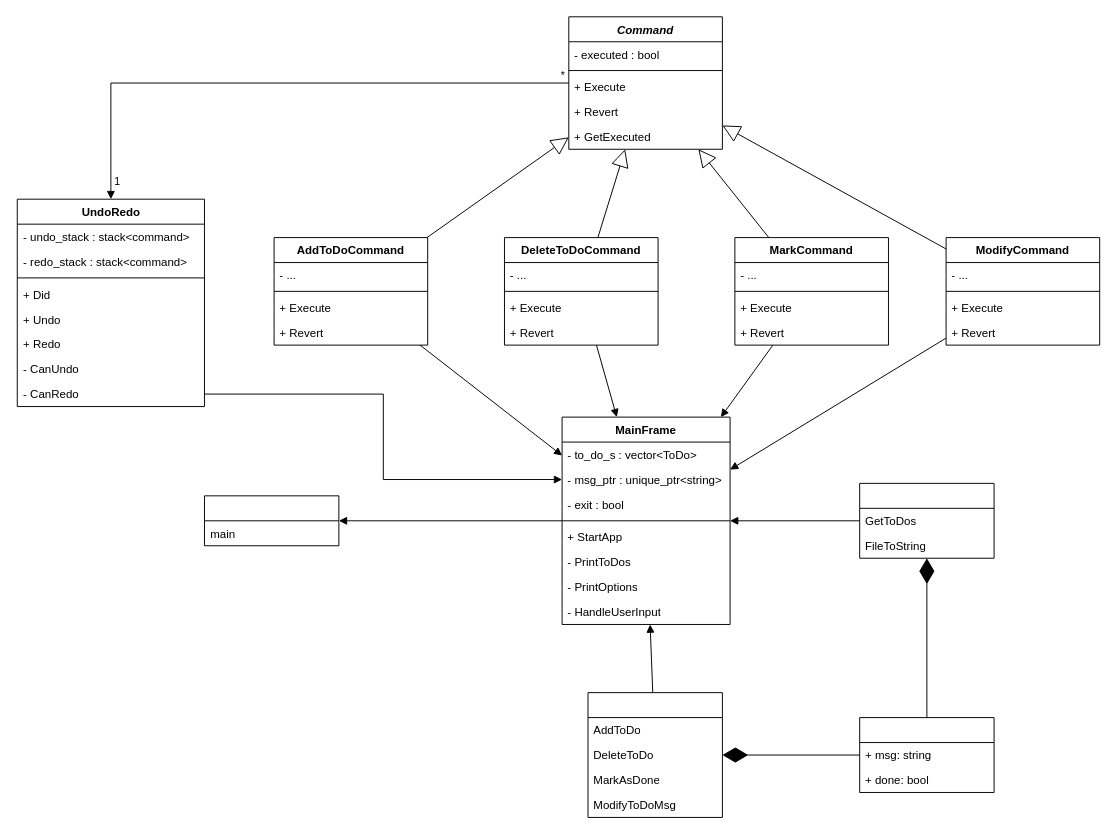
Image size: 1116x837. Some labels were removed from this diagram. Here are the shapes that lost their labels. From the top down, the box of each, then its label:
(204, 495, 339, 546): main.cpp
(859, 482, 994, 558): ReadFromFile
(587, 692, 722, 817): WriteToFile
(859, 717, 994, 792): ToDo (Struct)
